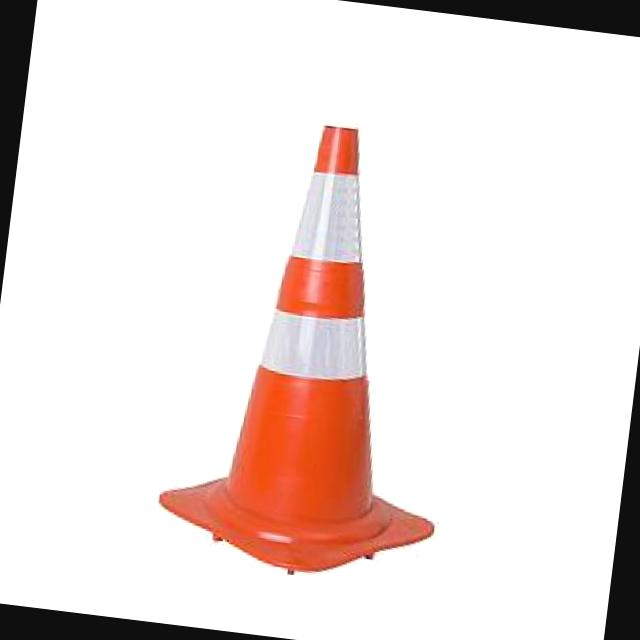cone: (117, 83, 503, 619)
